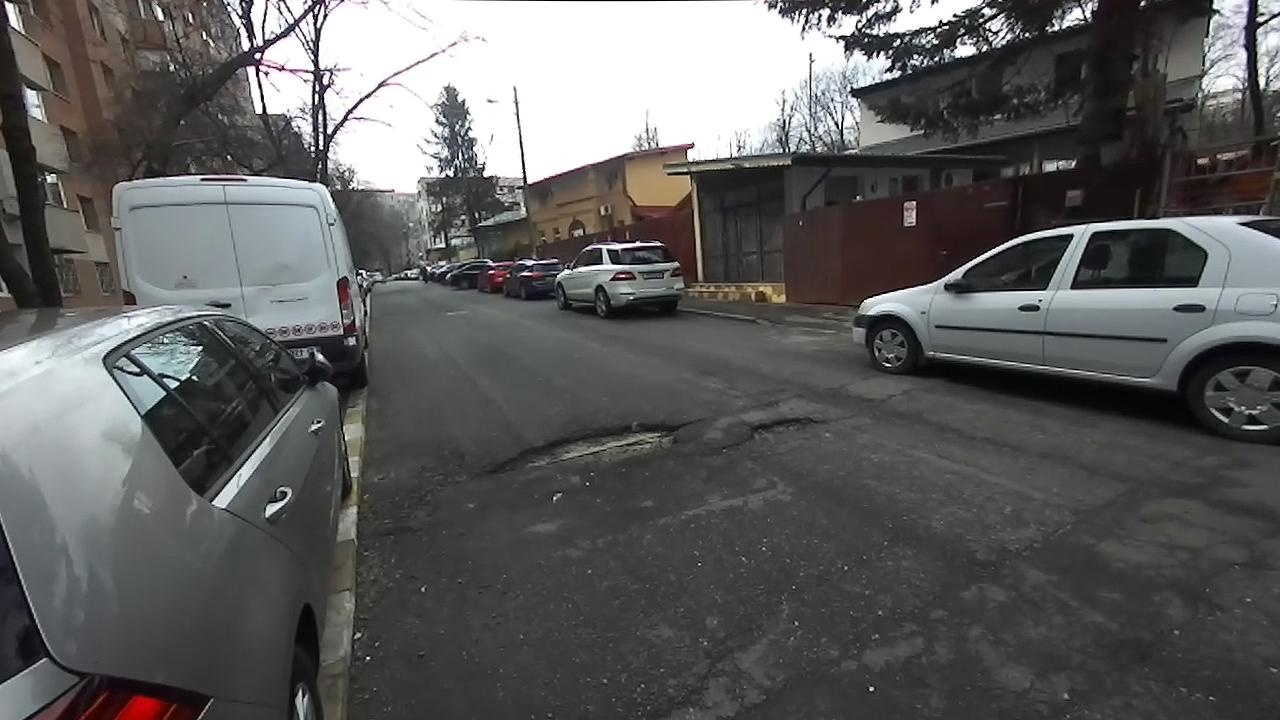pothole: (473, 412, 706, 486), (718, 411, 824, 452)
